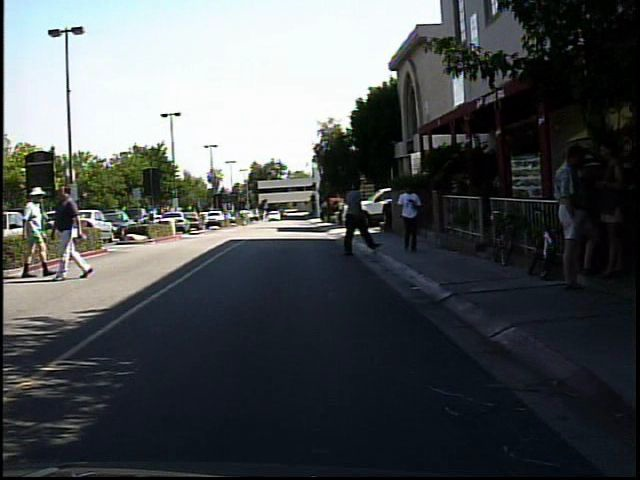person: (547, 134, 596, 296), (588, 140, 626, 281), (336, 174, 387, 262), (52, 179, 93, 282), (16, 182, 51, 280), (391, 178, 429, 256), (147, 202, 163, 236), (238, 203, 254, 228)
